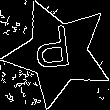P_S: (37, 26, 80, 80)
